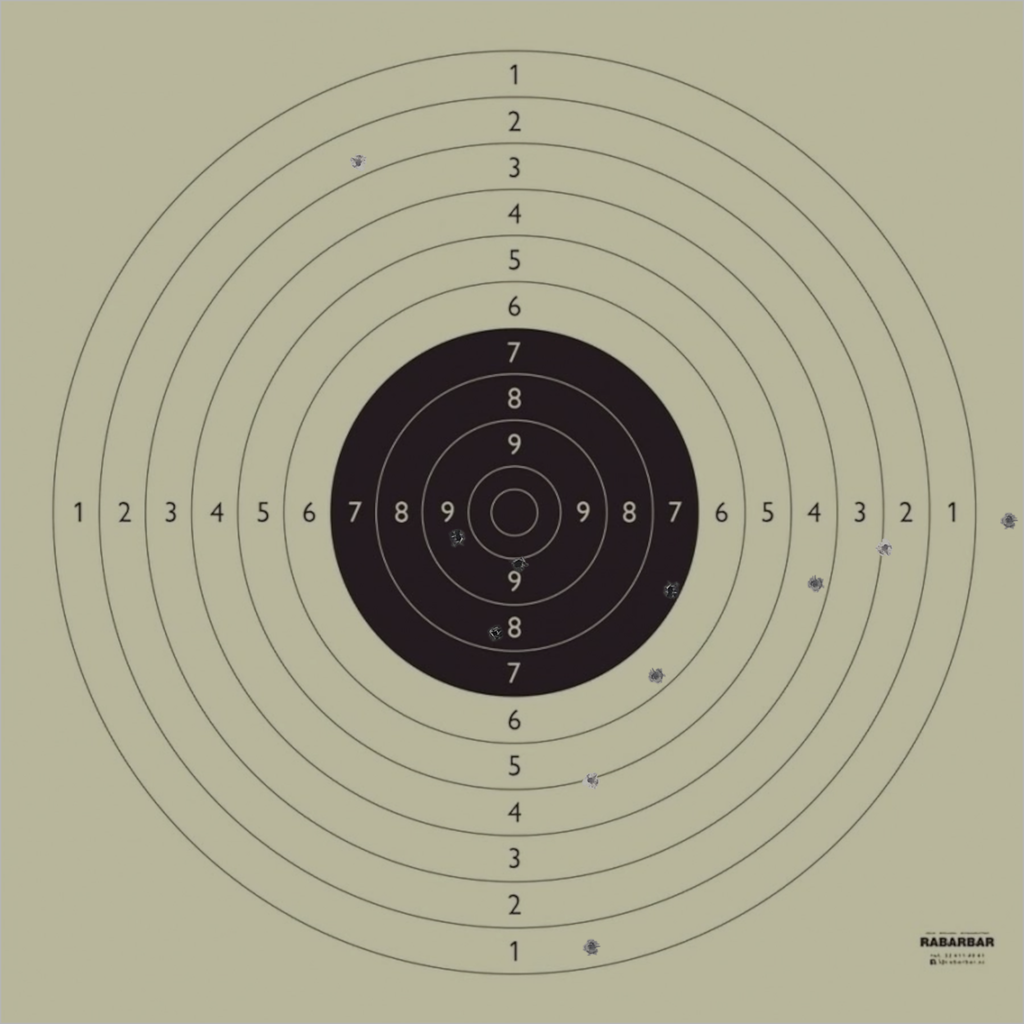0 punktow: (1000, 511, 1018, 529)
1 punkt: (582, 937, 601, 956)
10 punktow: (509, 554, 528, 573)
2 punkty: (349, 153, 368, 172)
3 punkty: (876, 539, 894, 557)
4 punkty: (806, 574, 824, 593)
5 punktow: (582, 771, 600, 790)
6 punktow: (646, 667, 665, 685)
7 punktow: (662, 580, 680, 599)
8 punktow: (485, 624, 504, 642)
9 punktow: (449, 529, 467, 547)
